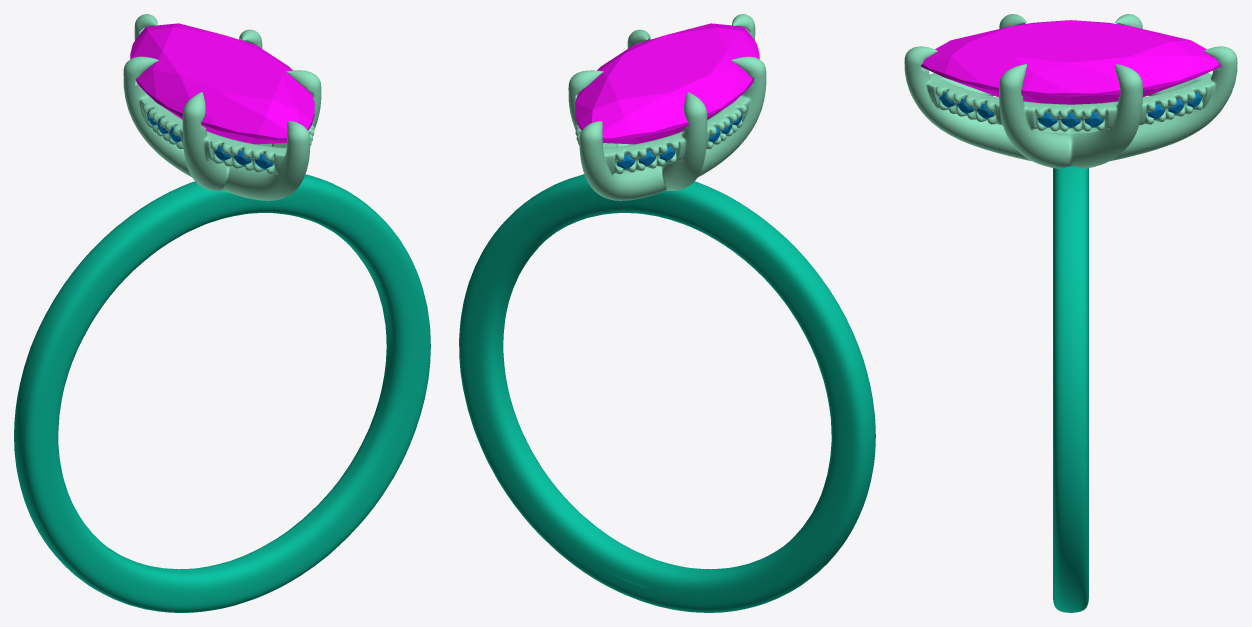
File: BE1D20201_MQ_200ct_RENDER.glb
3 views of the same model, side by side, from view 1: azimuth 30°, elevation 25°; view 2: azimuth 150°, elevation 25°; view 3: azimuth 270°, elevation 25° (orthographic).
Visible parts, largest first — view 1: Metal 01, CS_Diamond_Marquise, Metal 02; view 2: Metal 01, CS_Diamond_Marquise, Metal 02; view 3: Metal 02, CS_Diamond_Marquise, Metal 01.
Boxes of the visible parts, <box> form: Metal 01: <box>14,174,430,612</box>; CS_Diamond_Marquise: <box>130,23,314,144</box>; Metal 02: <box>123,14,321,200</box>; Metal 01: <box>459,174,875,612</box>; CS_Diamond_Marquise: <box>575,23,759,144</box>; Metal 02: <box>568,14,766,200</box>; Metal 02: <box>904,14,1237,168</box>; CS_Diamond_Marquise: <box>921,20,1220,104</box>; Metal 01: <box>1053,166,1088,612</box>.
Size of the model in its own units: 20.1 by 25.41 by 13.97.
